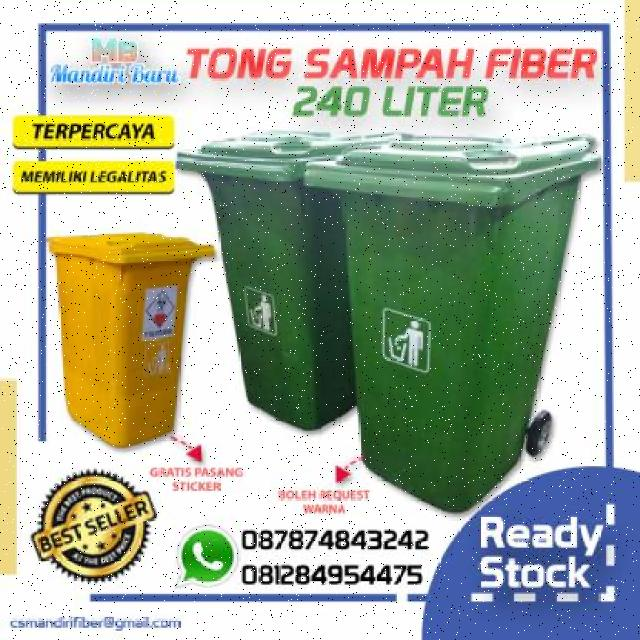garbage container: (302, 129, 603, 517), (172, 114, 354, 434), (43, 228, 215, 455)
